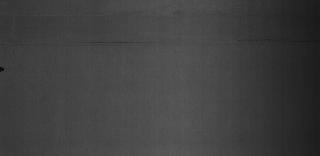punching hole: (0, 64, 6, 74)
welding line: (0, 38, 318, 48)
